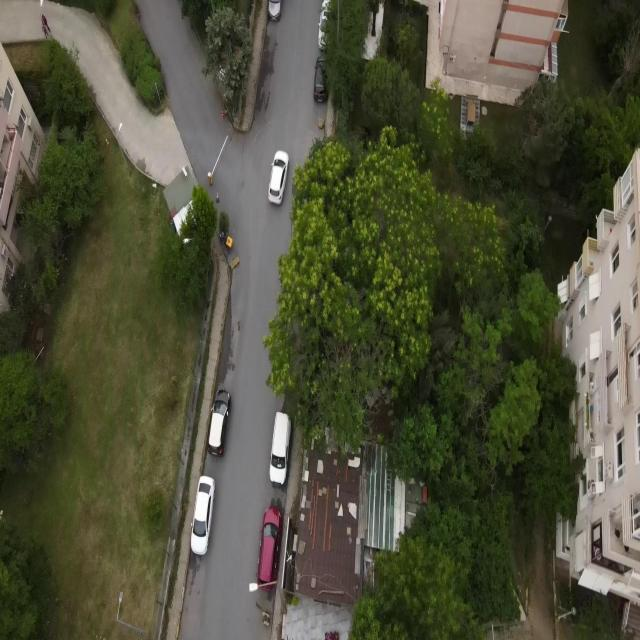p3rson: (42, 14, 51, 33), (42, 26, 49, 38)
